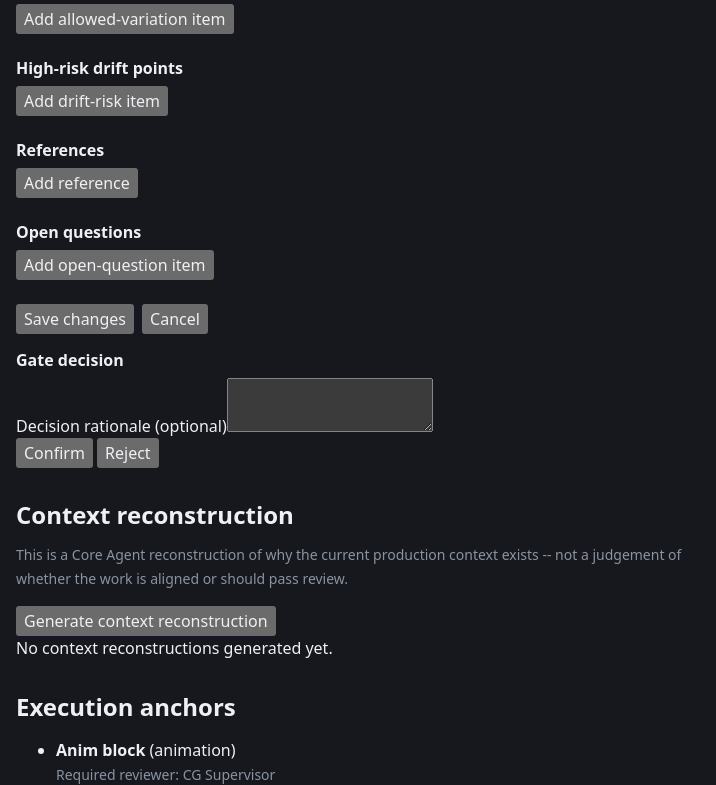
it: ShotAnchorPage › shows a clear success state with rationale after confirming
(page scrolled)
In the text box labelled "Decision rationale (optional)": (330, 405) [227,378,433,432], type "looks aligned with the brief"
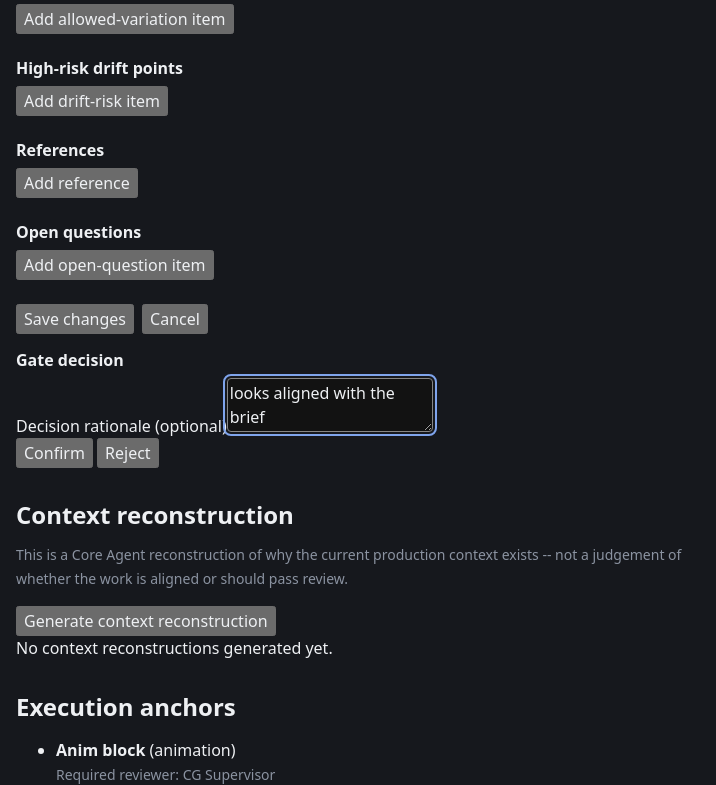
Click the button "Confirm": (54, 453) [16,438,93,468]
(page scrolled)
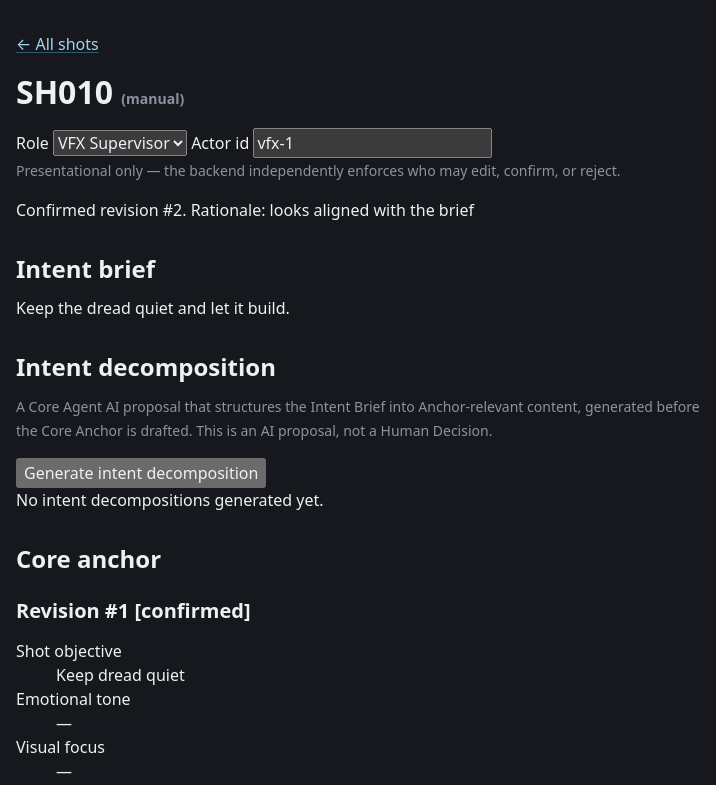
Expected: the text "Confirmed revision #2. Rationale: looks aligned with the brief" is shown, [16,199,474,221]
